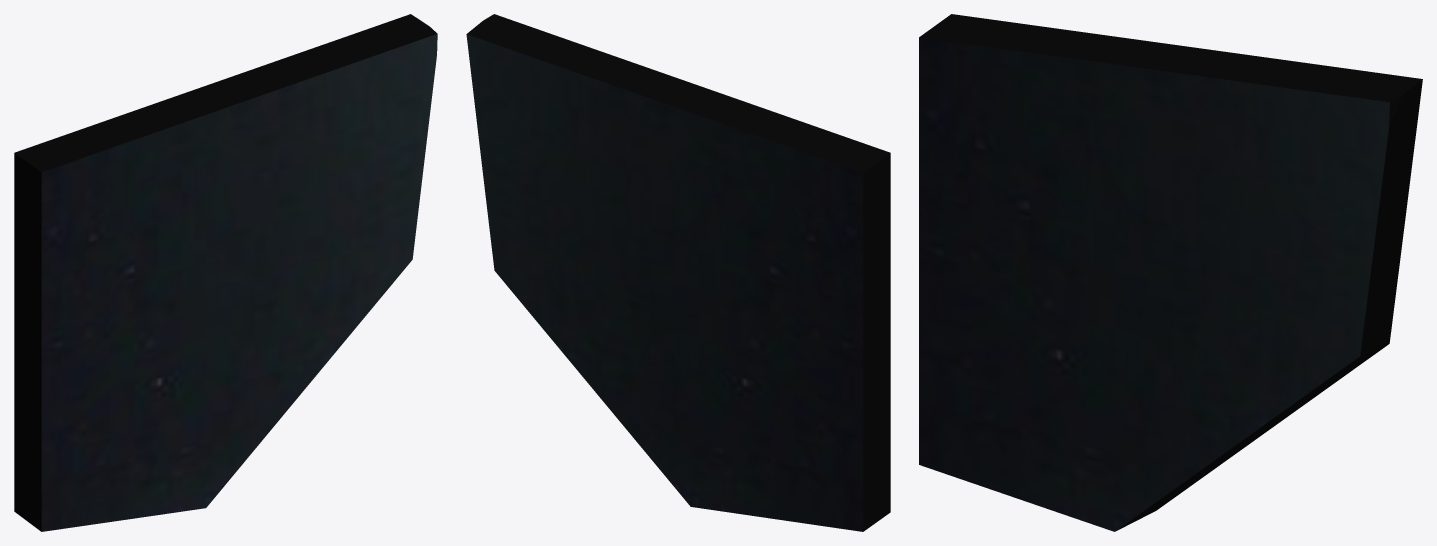
Rendered from Puzzle_2_Cell_02.glb.
3 views of the same model, side by side, from view 1: azimuth 30°, elevation 25°; view 2: azimuth 150°, elevation 25°; view 3: azimuth 330°, elevation 25° (orthographic). The views are drawn at different scales.
Visible parts, largest first — view 1: Puzzle_1_cell.002; view 2: Puzzle_1_cell.002; view 3: Puzzle_1_cell.002.
Boxes of the visible parts, x1,y1,x2,y2 form: Puzzle_1_cell.002: (14,14,437,531); Puzzle_1_cell.002: (466,14,890,531); Puzzle_1_cell.002: (919,14,1422,531).
Bounding box in the file's own units: 1.26 × 1.27 × 0.15.
2 materials, 1 textured.
